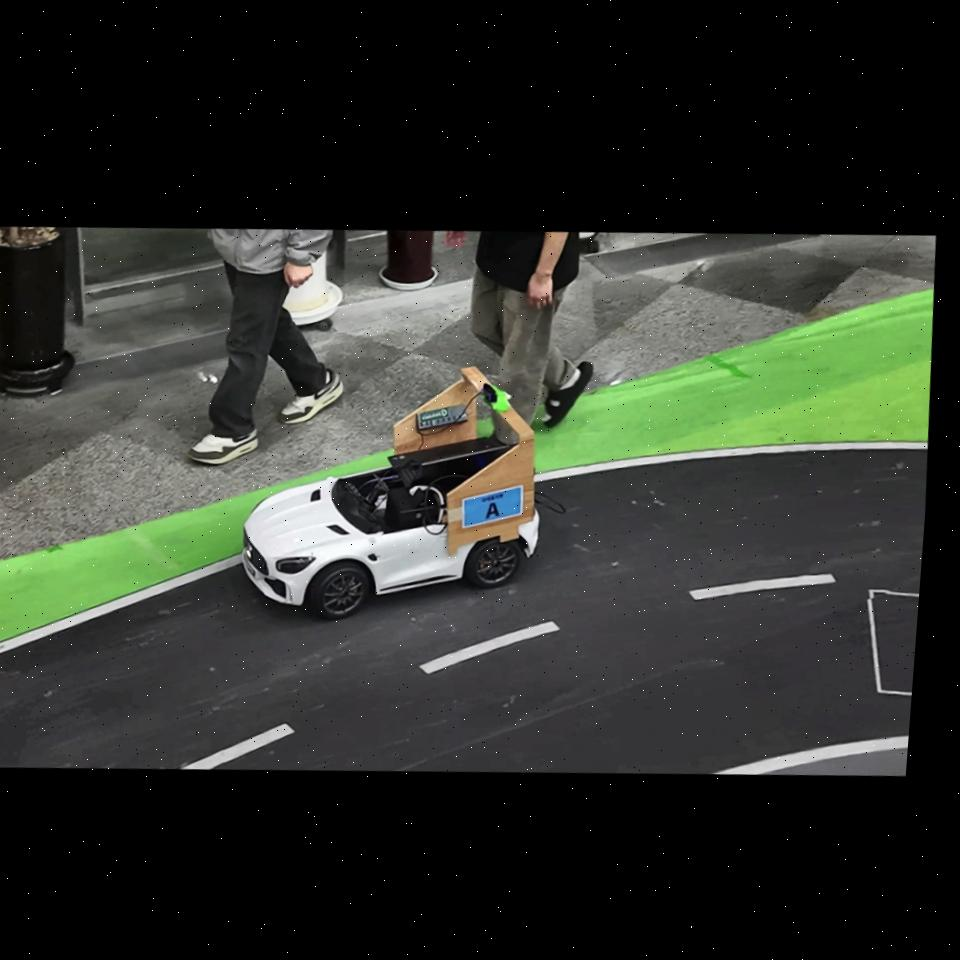broken_line: (418, 621, 560, 674), (180, 724, 295, 769), (688, 574, 836, 600)
